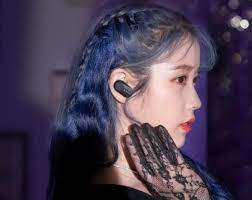earphone: (108, 68, 134, 104)
